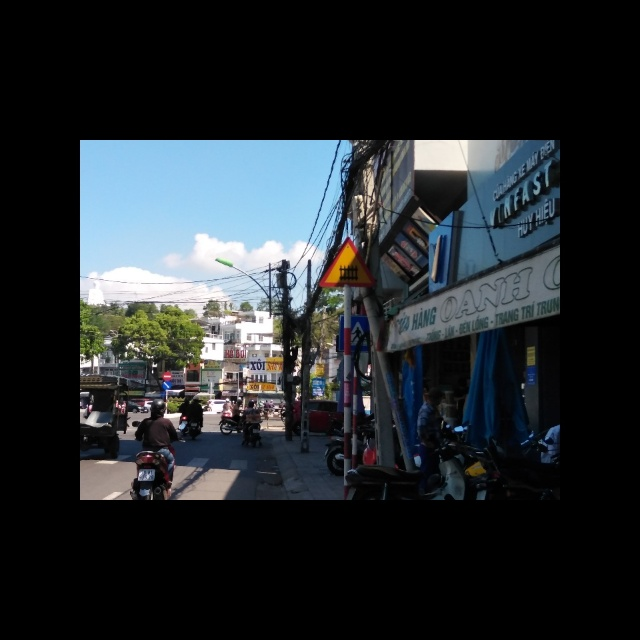Giao nhau với đường sắt có rào chắn: (317, 237, 379, 289)
